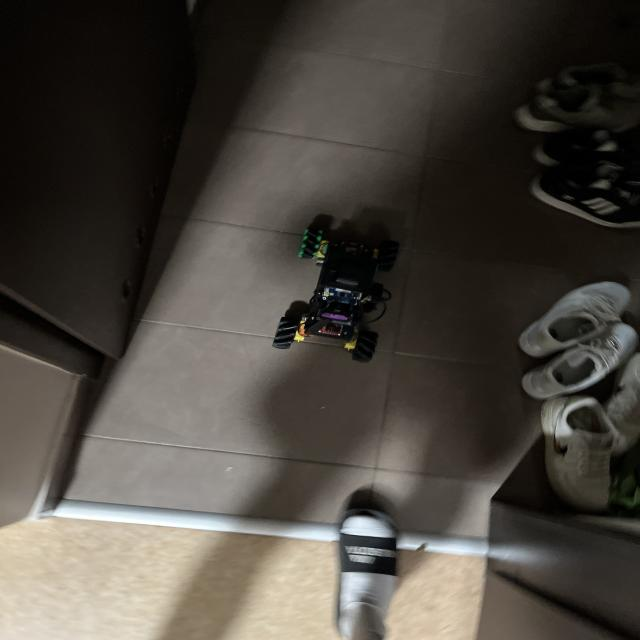robot: (274, 214, 399, 361)
